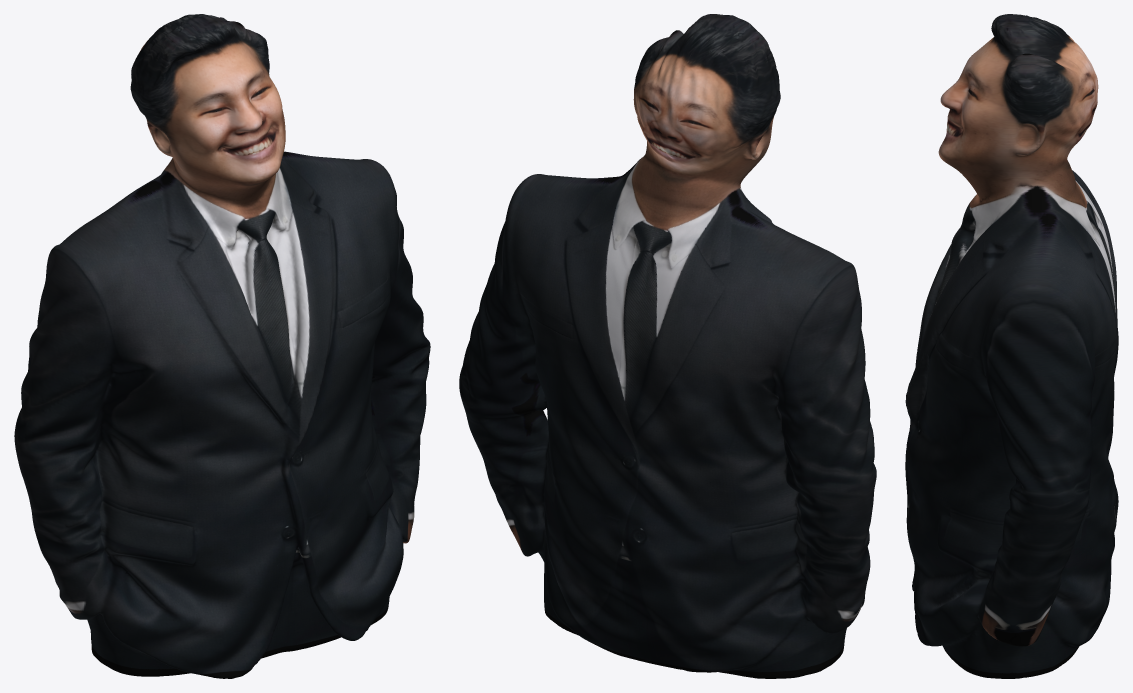
The model's file is aam.glb.
The picture shows the model from 3 angles, left to right: view 1: azimuth 30°, elevation 25°; view 2: azimuth 150°, elevation 25°; view 3: azimuth 270°, elevation 25°; orthographic projection. The views are drawn at different scales.
Visible parts, largest first — view 1: tmps8tbyajk.ply; view 2: tmps8tbyajk.ply; view 3: tmps8tbyajk.ply.
Boxes of the visible parts, x1=… form: tmps8tbyajk.ply: x1=14, y1=14, x2=430, y2=678; tmps8tbyajk.ply: x1=459, y1=14, x2=876, y2=678; tmps8tbyajk.ply: x1=905, y1=14, x2=1118, y2=678.
Size of the model in its own units: 1.35 by 1.96 by 0.6501.
1 material, 1 textured.
